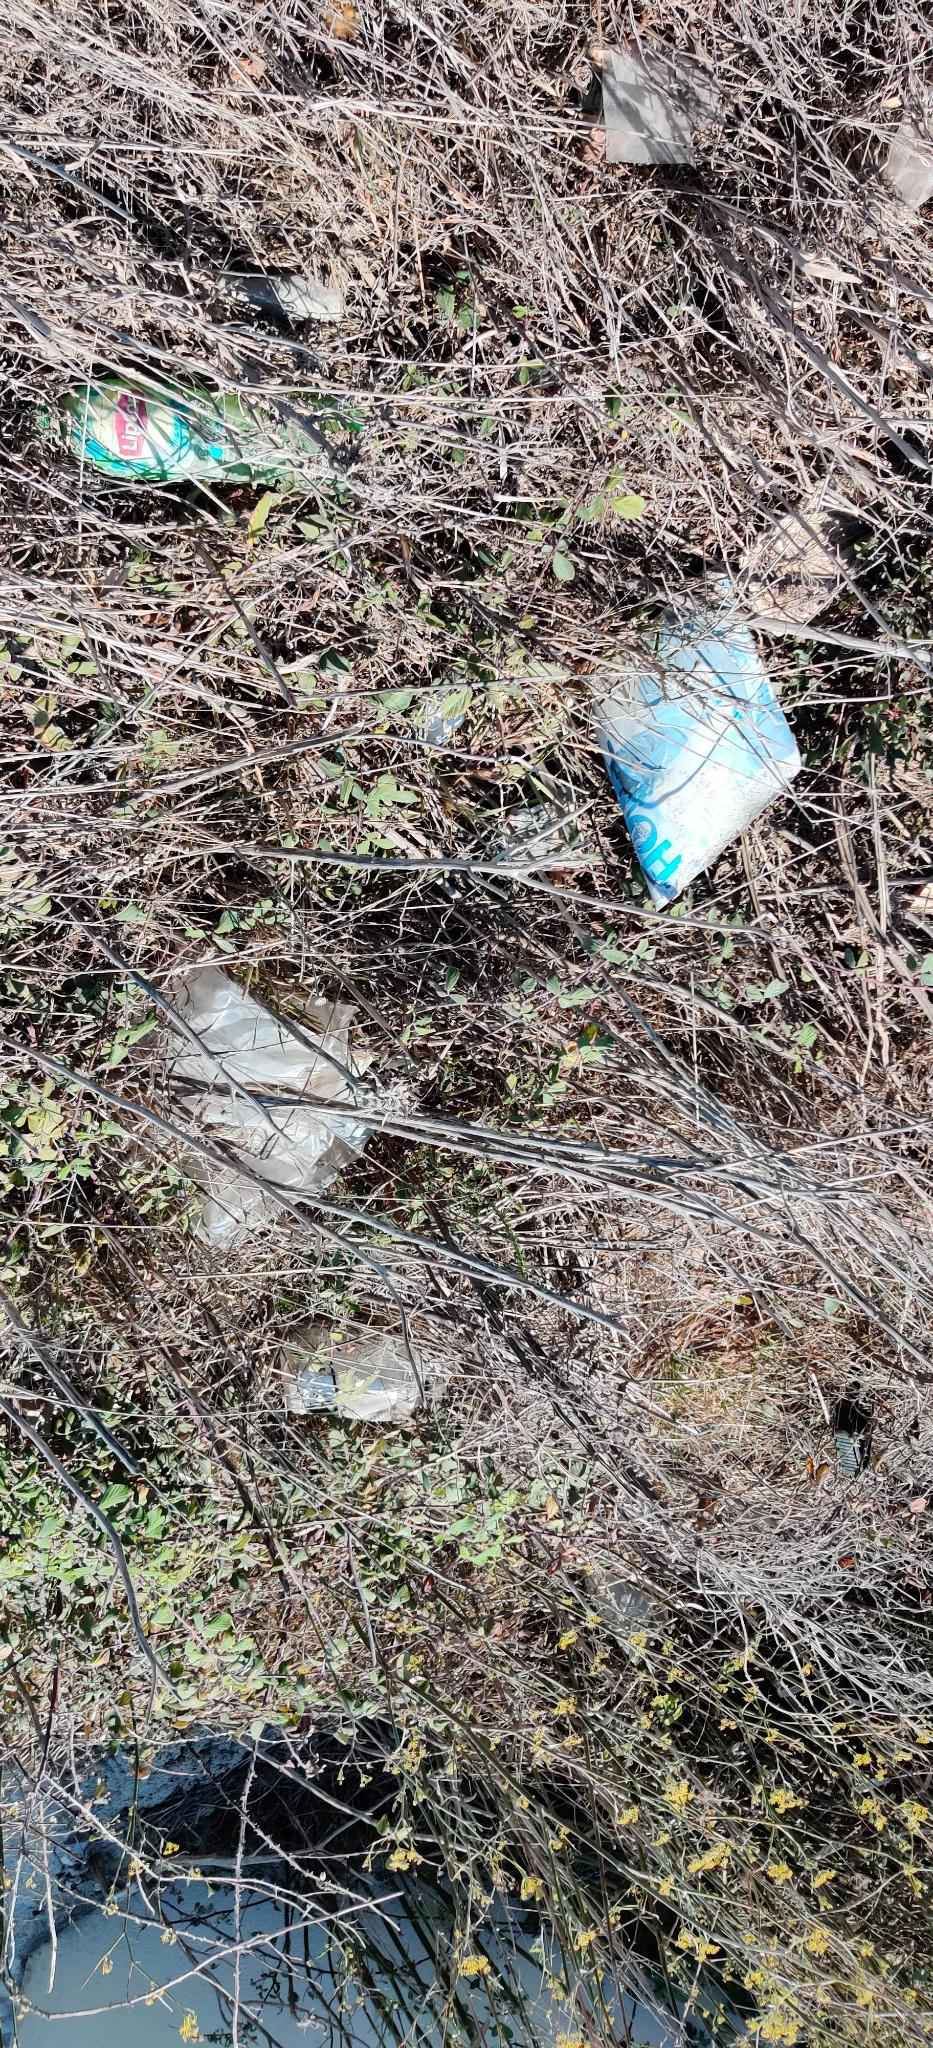Metal: (240, 1305, 463, 1435)
Plastic: (115, 938, 378, 1250)
Trash: (571, 555, 808, 926)
